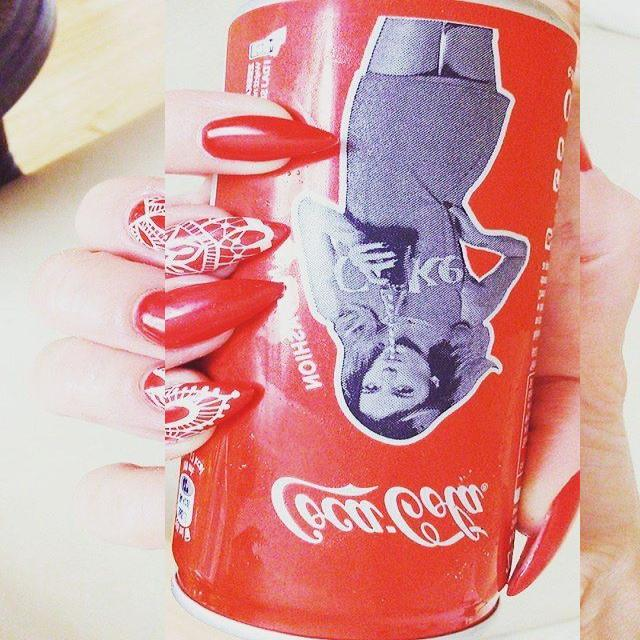coca-cola: (165, 0, 580, 640)
